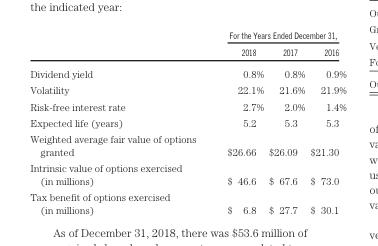table: (29, 29, 346, 215)
table column: (29, 29, 211, 215), (211, 29, 265, 215), (265, 29, 307, 215), (307, 29, 346, 215)
table column header: (29, 29, 346, 62)
table row: (29, 130, 346, 159), (29, 159, 346, 188), (29, 188, 346, 215), (29, 43, 346, 62), (29, 62, 346, 81), (29, 97, 346, 114), (29, 81, 346, 97), (29, 114, 346, 130), (29, 29, 346, 43)
table spanning cell: (211, 29, 346, 43)
